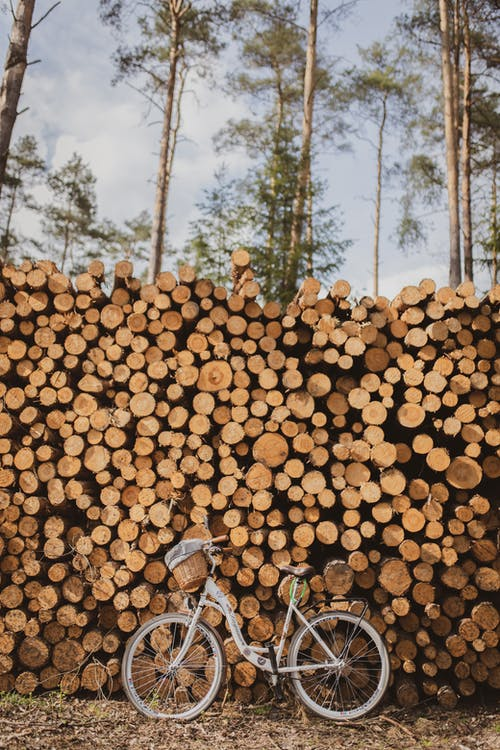bicycle: (118, 531, 396, 729)
